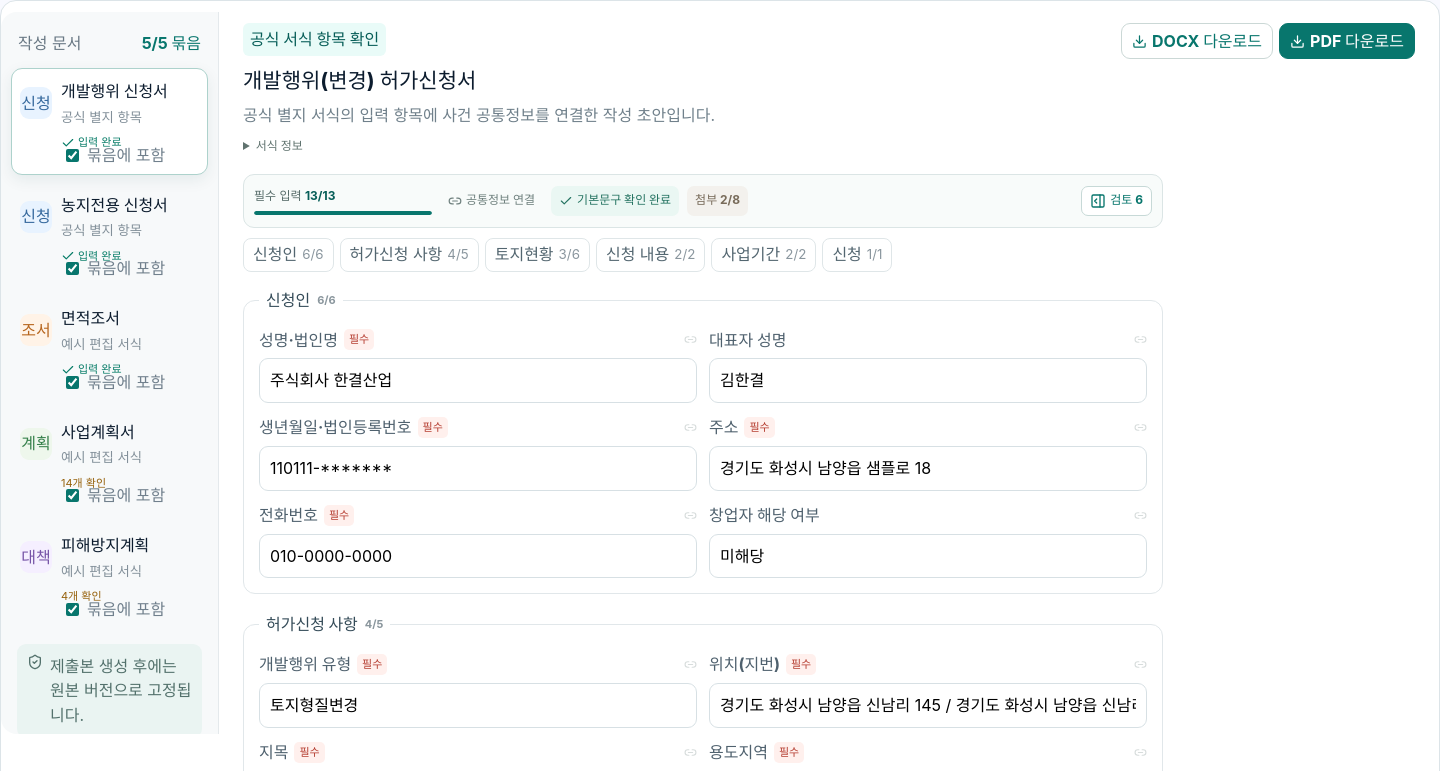
Test: 문서 작업실 UI › 내부 연결키를 숨기고 기본문구를 사용자가 확인한 상태로 기록한다
Click the button "계획 사업계획서 예시 편집 서식 14개 확인".
click(110, 462)  # box [12, 410, 207, 514]
(page scrolled)
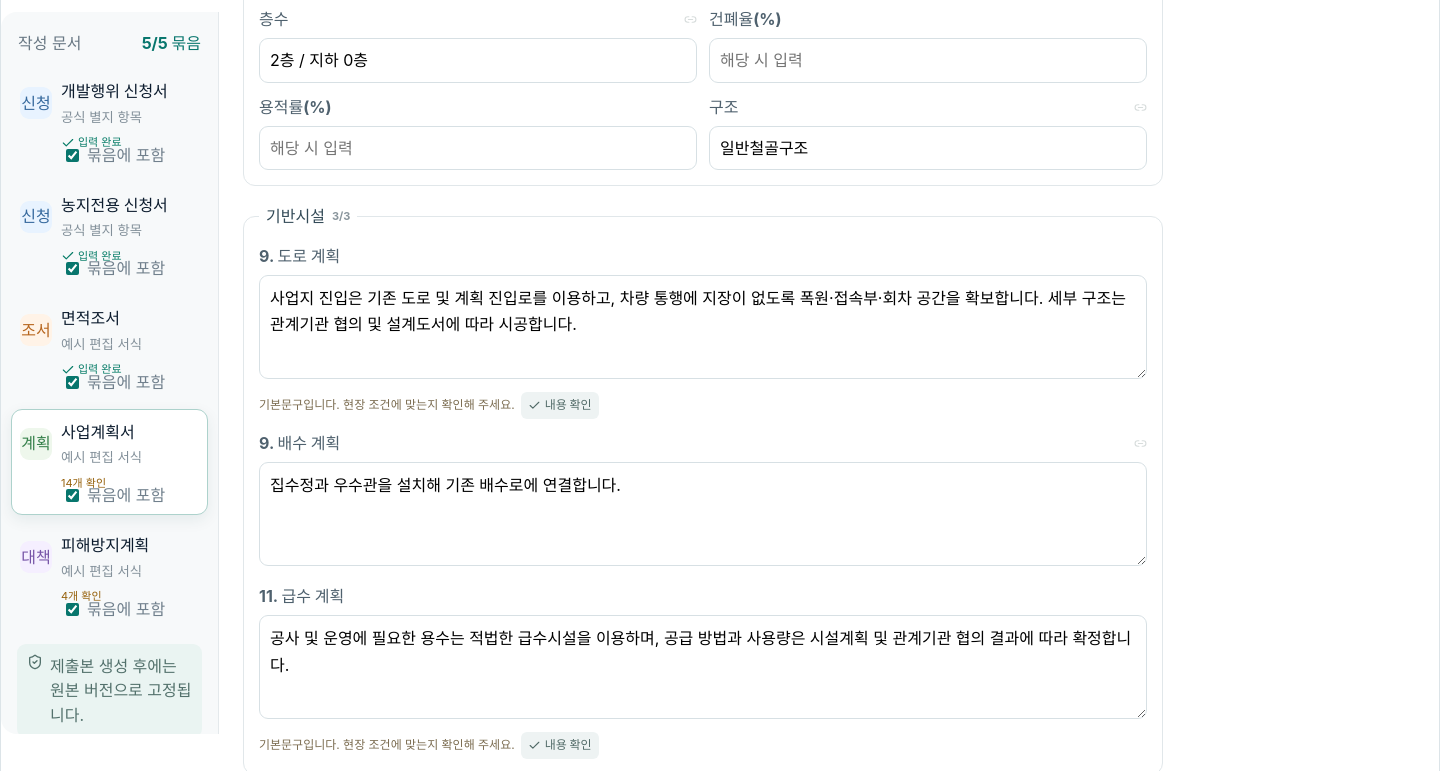
expect the element labelled "9. 도로 계획" is shown: met, box [259, 244, 1147, 419]
expect the text "기본문구입니다. 현장 조건에 맞는지 확인해 주세요." below "9. 도로 계획" is shown: met, box [259, 397, 515, 412]
Click the button "내용 확인" below "9. 도로 계획".
click(560, 405)  # box [521, 392, 599, 419]
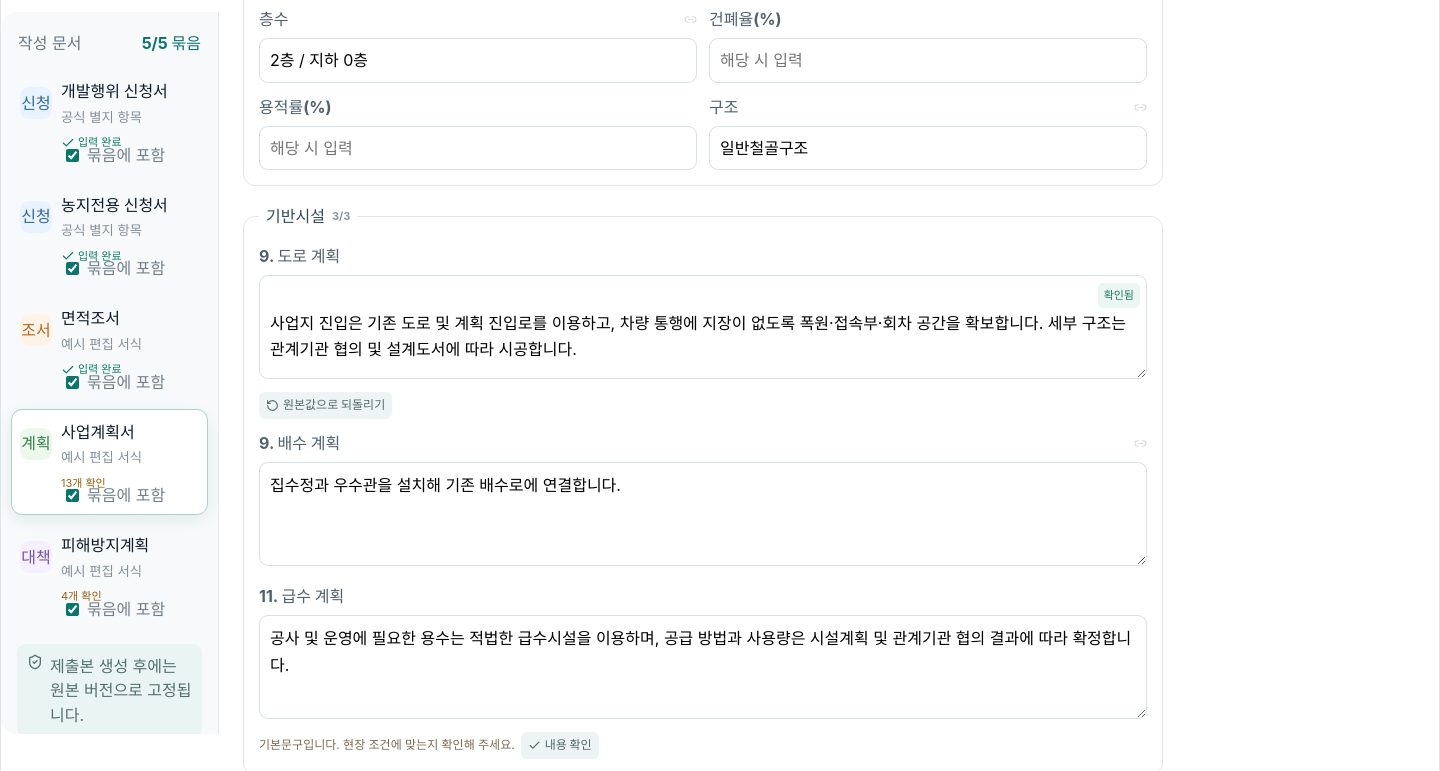
expect the text "확인됨" is shown: met, box [1098, 283, 1140, 308]
